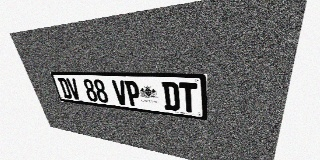8: (92, 79, 109, 103), (82, 79, 98, 102)
D: (162, 82, 180, 111), (57, 78, 73, 99)
P: (124, 80, 142, 107)
T: (179, 82, 198, 113)
V: (111, 80, 129, 105), (66, 78, 82, 100)
